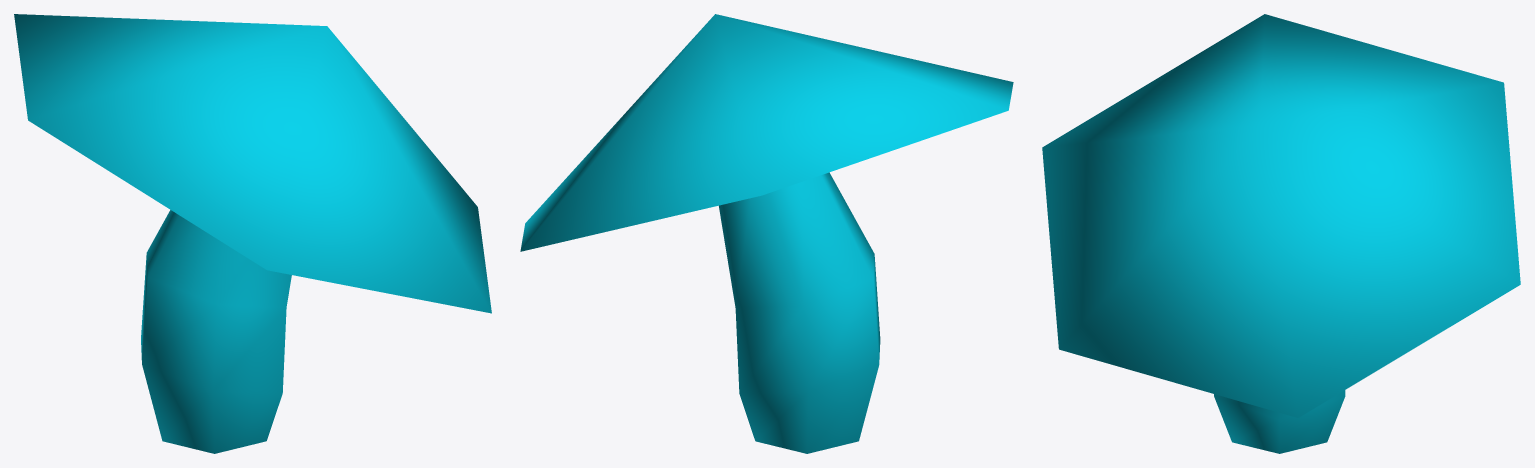
Rendered from mesh_mushroom.fbx.
3 renders of one model, left to right at view 1: azimuth 30°, elevation 25°; view 2: azimuth 150°, elevation 25°; view 3: azimuth 270°, elevation 25°, orthographic. The views are drawn at different scales.
Parts seen in each view (by area): view 1: Mushroom; view 2: Mushroom; view 3: Mushroom.
Boxes of the visible parts, box(x1,y1,x2,y2) form: Mushroom: box(14, 14, 491, 453); Mushroom: box(520, 14, 1013, 453); Mushroom: box(1042, 14, 1520, 453).
Size of the model in its own units: 518 by 407 by 502.
